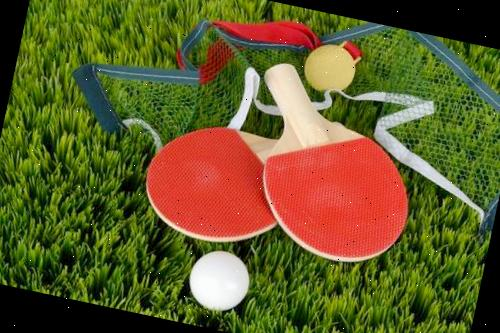ball: (179, 240, 258, 318), (296, 35, 363, 98)
